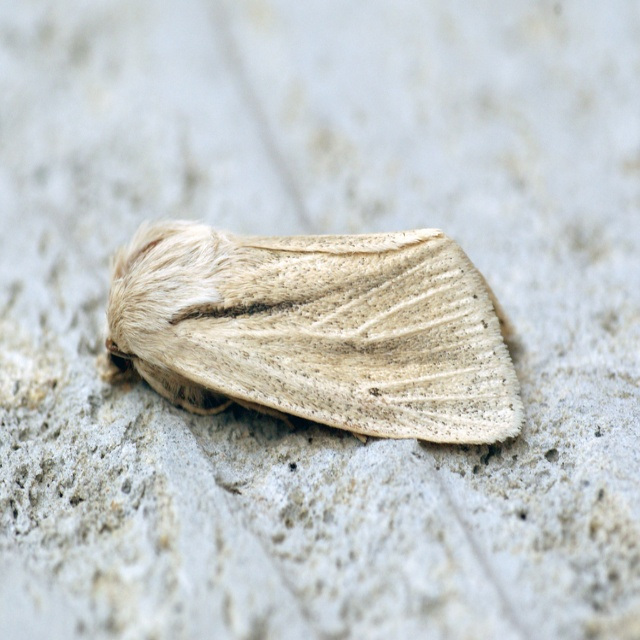Moths and butterflies: (102, 209, 524, 446)
